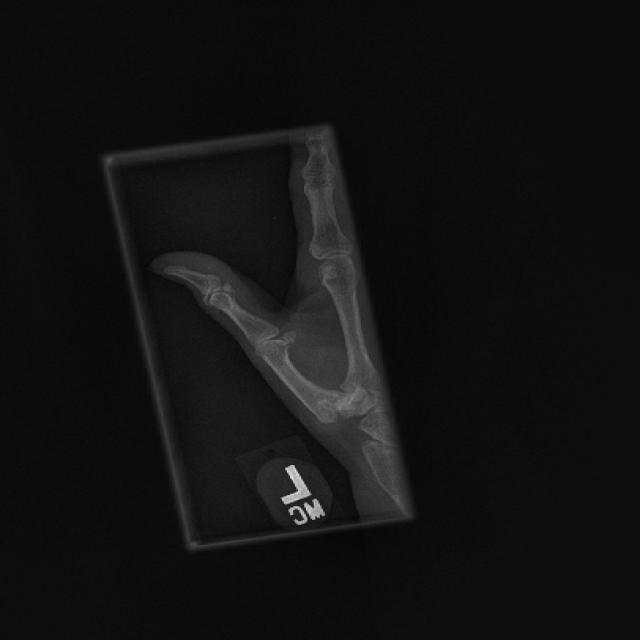fingers positive: (192, 263, 246, 311)
